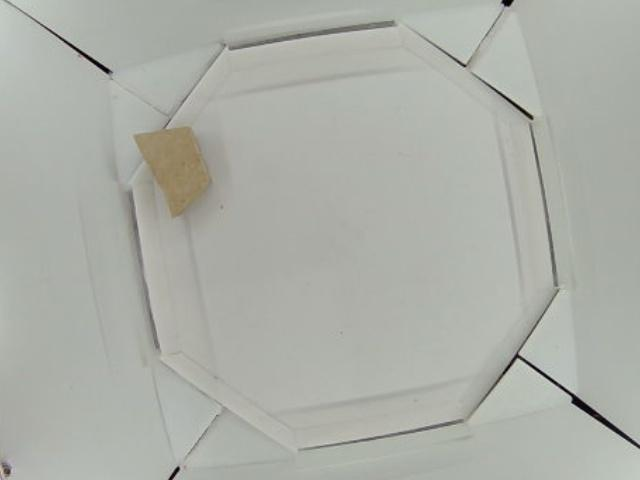China: (134, 127, 214, 220)
